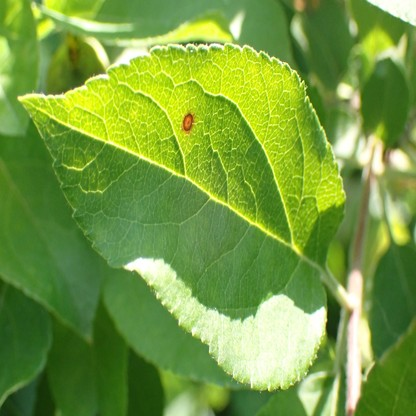frogeye: (183, 113, 194, 132)
